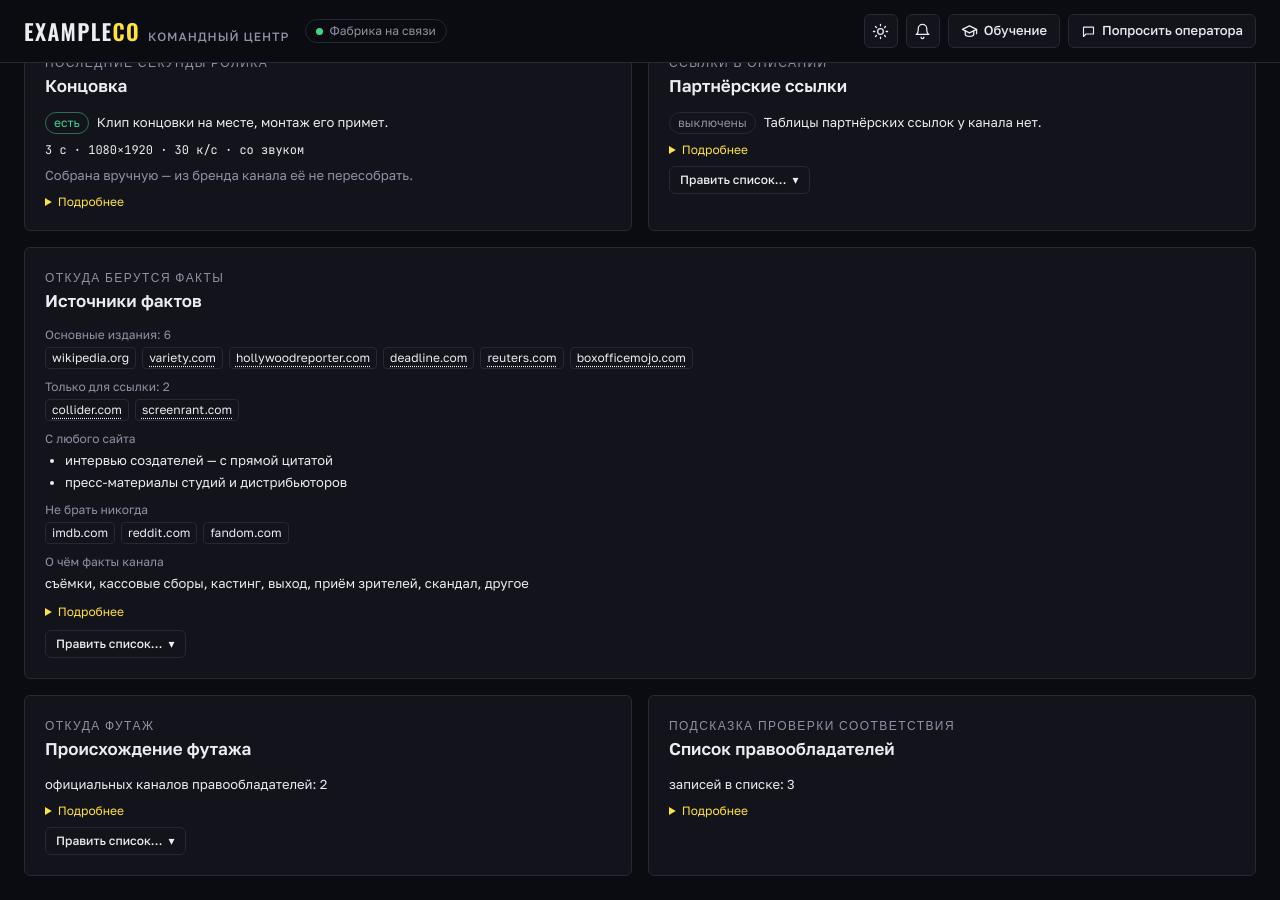
данные канала: правка списков и концовка (CC-0115 шаг 3) › новое издание без проверки robots.txt — словами, план не спрашиваем
The image size is (1280, 900).
(page scrolled)
Step 1. Click the button with test id "list-fact-sources-toggle" → (115,644), box [45,630,186,658]
(page scrolled)
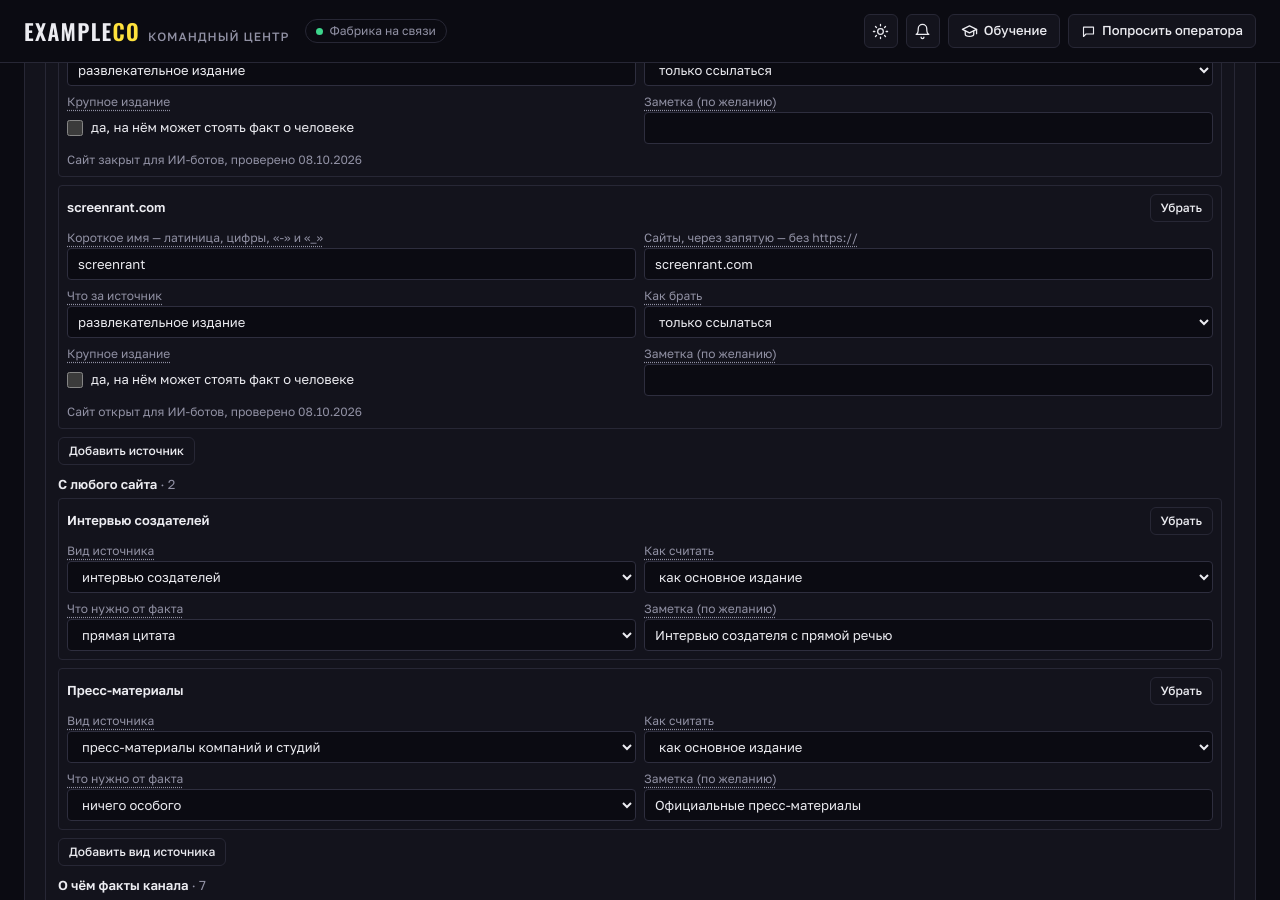
Step 2. Click the button with test id "rows-tier2-add" → (126,450), box [58,436,195,464]
(page scrolled)
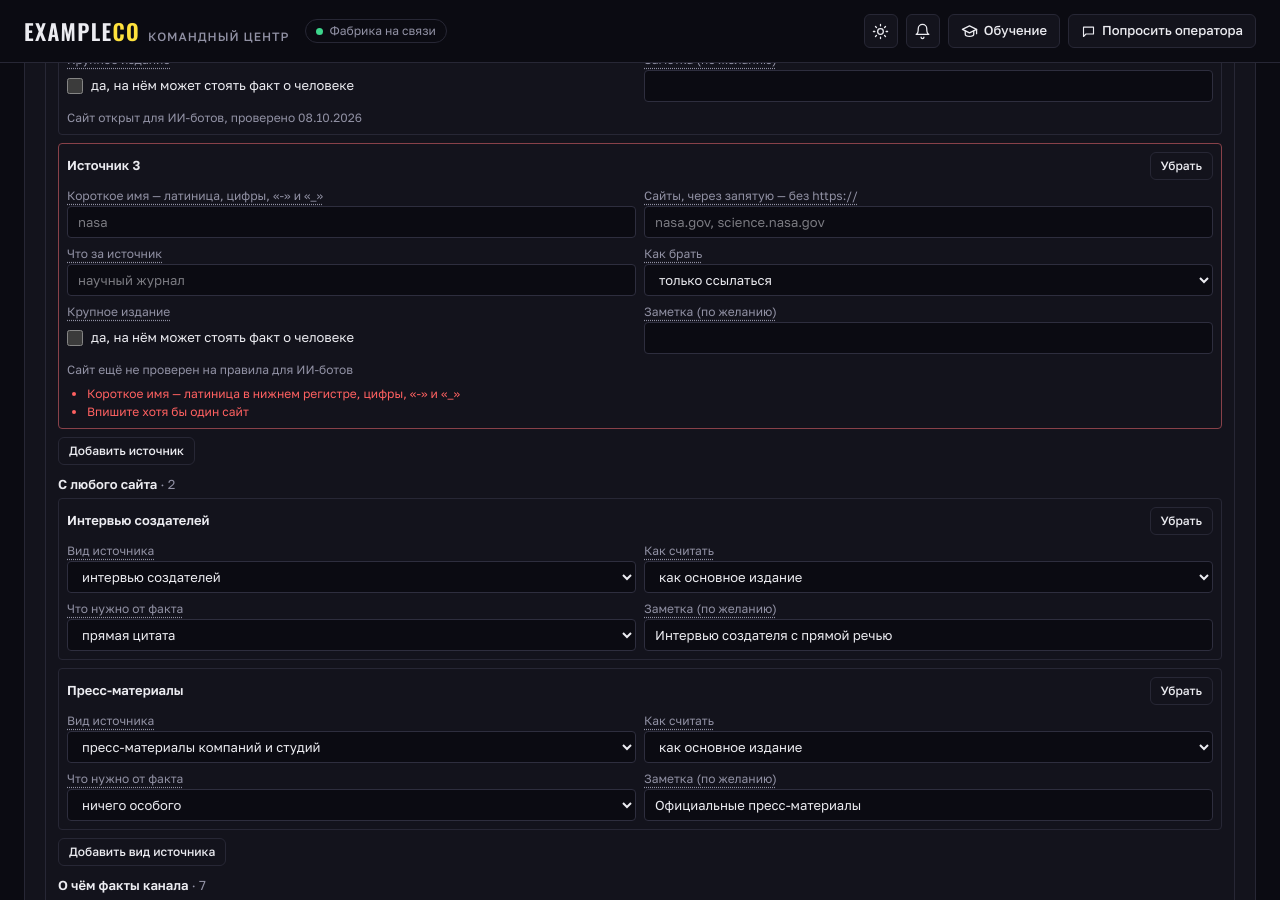
Now the text with test id "facts-ai-policy" reads "Сайт ещё не проверен на правила для ИИ-ботов", box [67,362,353,376]
Step 3. Type "ign" into the field with test id "rows-tier2-id" → (352,222), box [67,206,636,238]
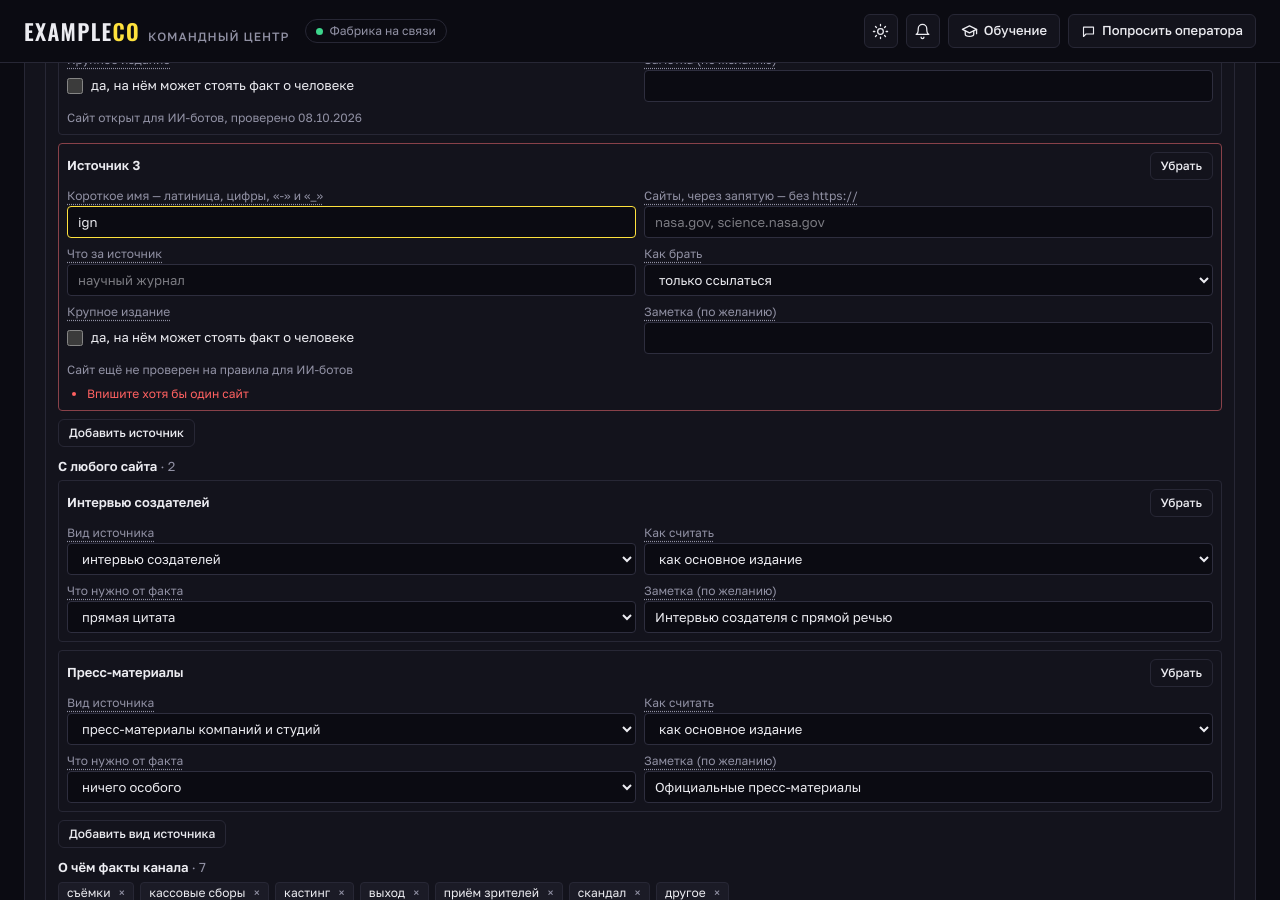
Step 4. Type "collider.com" into the field with test id "rows-tier2-hosts" → (928,222), box [644,206,1213,238]
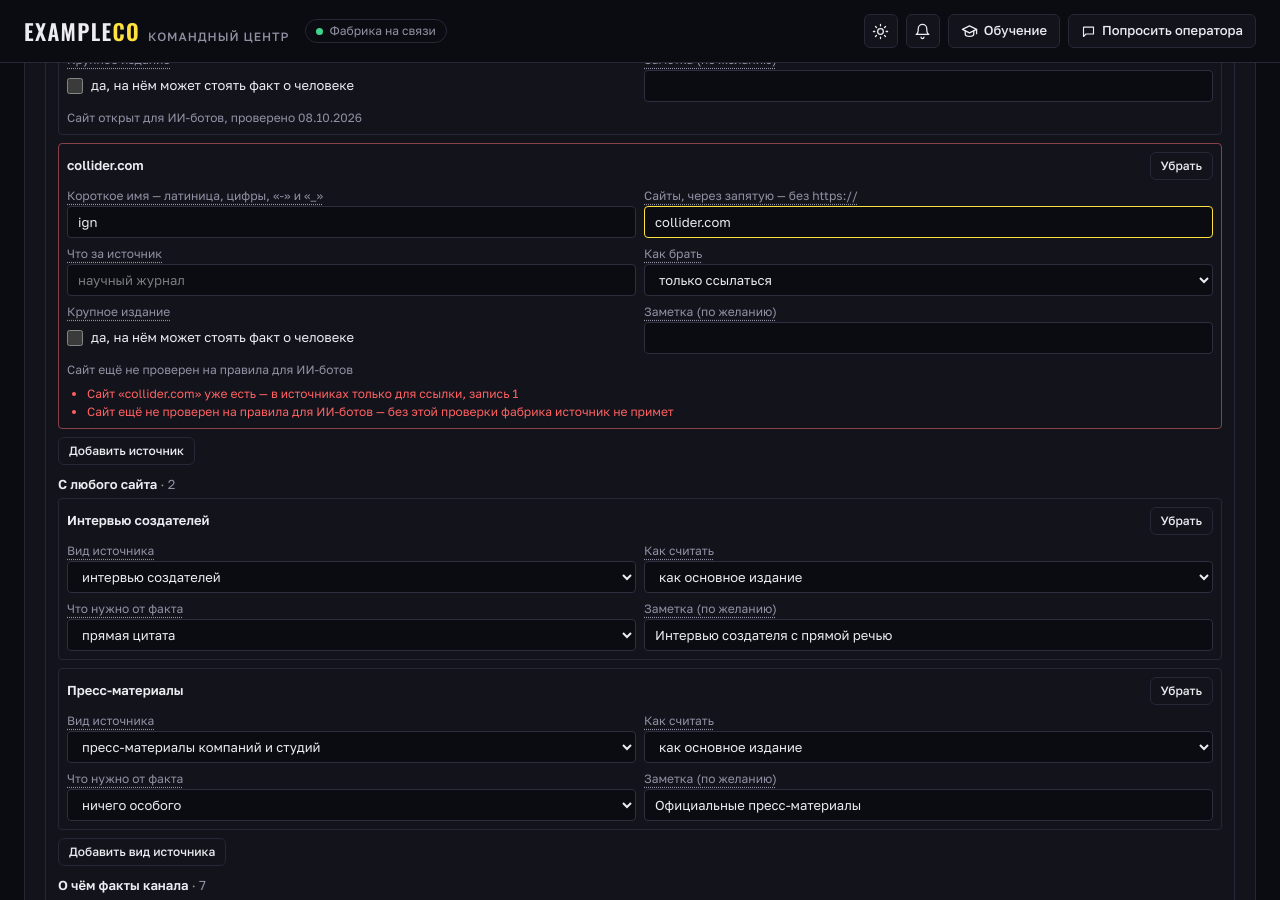
Now the list with test id "rows-tier2-problems" shows "Сайт «collider.com» уже есть — в источниках только для ссылки, запись 1", box [87,386,518,400]
Now the list with test id "rows-tier2-problems" shows "Сайт ещё не проверен на правила для ИИ-ботов", box [87,404,674,418]
